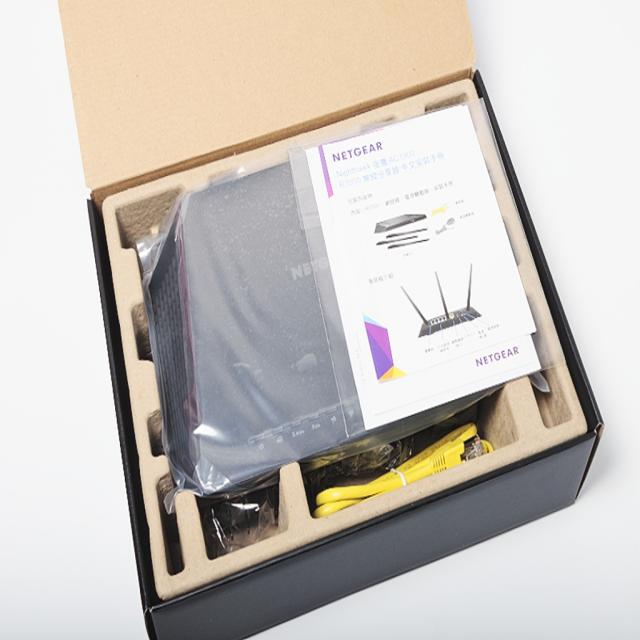Box: (55, 0, 602, 639)
